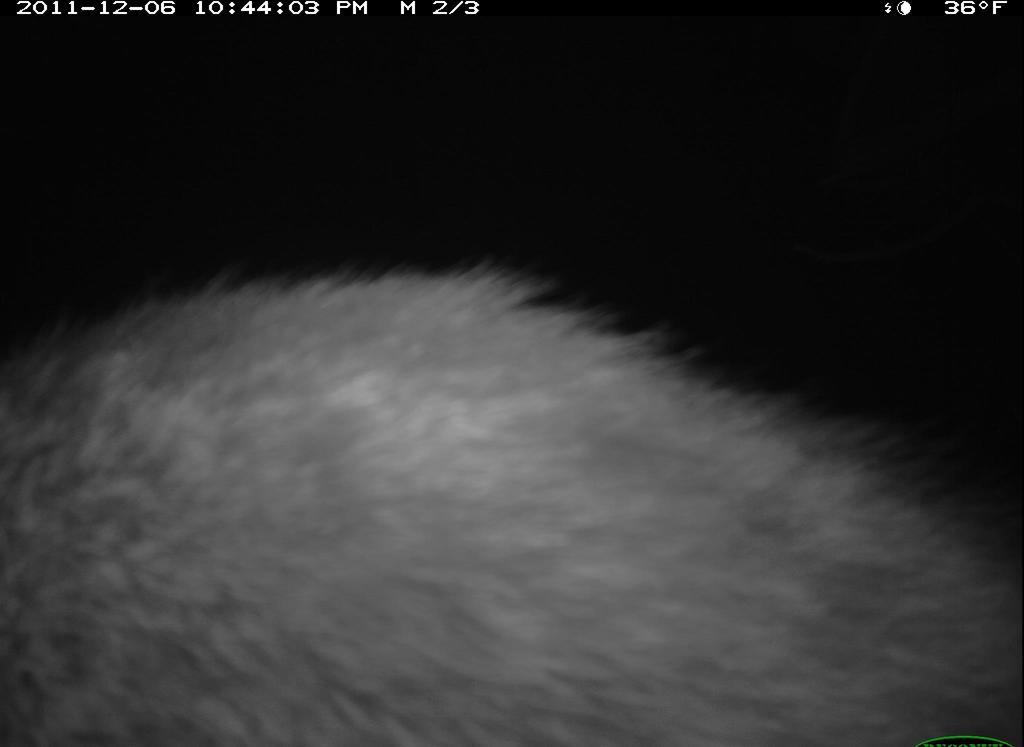raccoon: (9, 259, 1021, 747)
